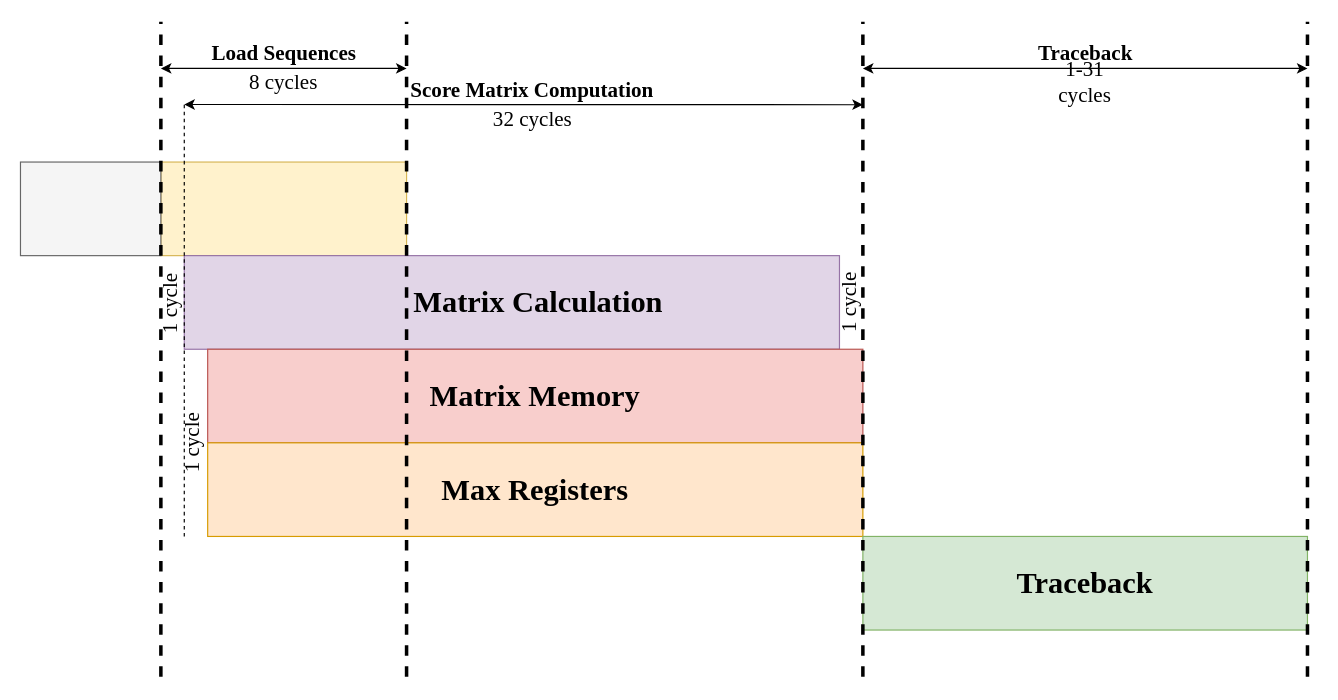
This 1338x700 diagram has some shape labels left out. Each missing label, with the centre of its shape:
"Idle" belongs at point (90, 208).
"Sequences Buffer" belongs at point (283, 208).
